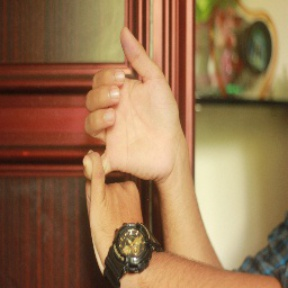S: (74, 26, 181, 253)
